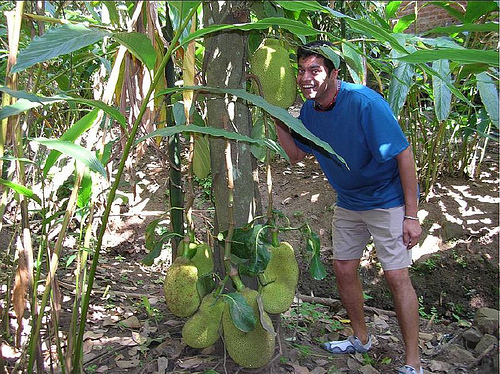jackfruit: (218, 284, 278, 371), (247, 32, 299, 116), (259, 224, 298, 317), (162, 252, 201, 319), (183, 288, 224, 348)
